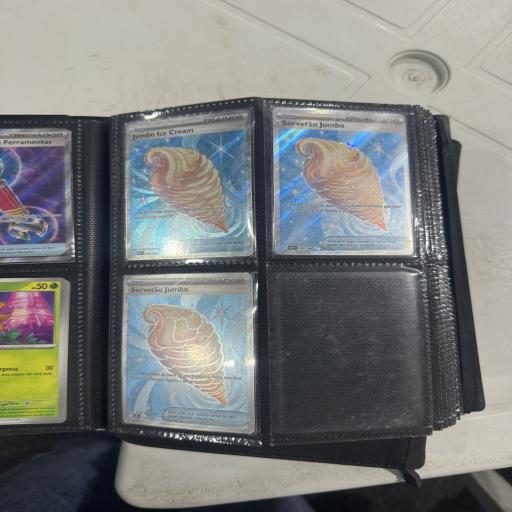card: (120, 273, 255, 436), (272, 107, 414, 257), (126, 109, 254, 261)
